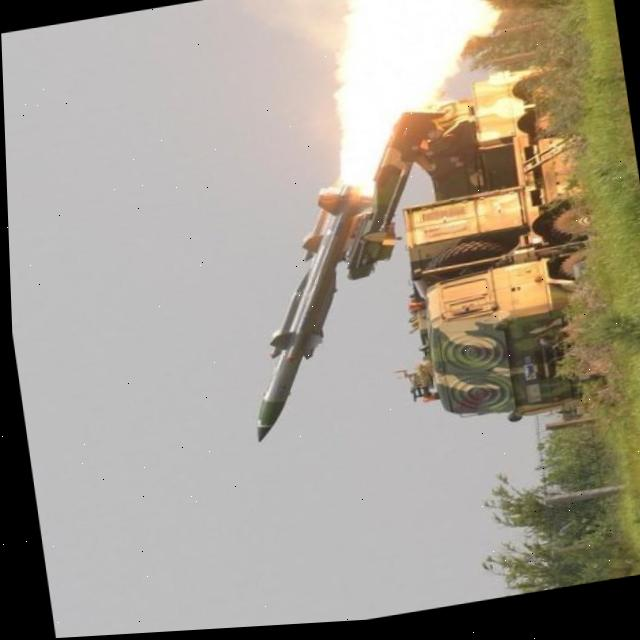missile: (220, 176, 396, 445)
